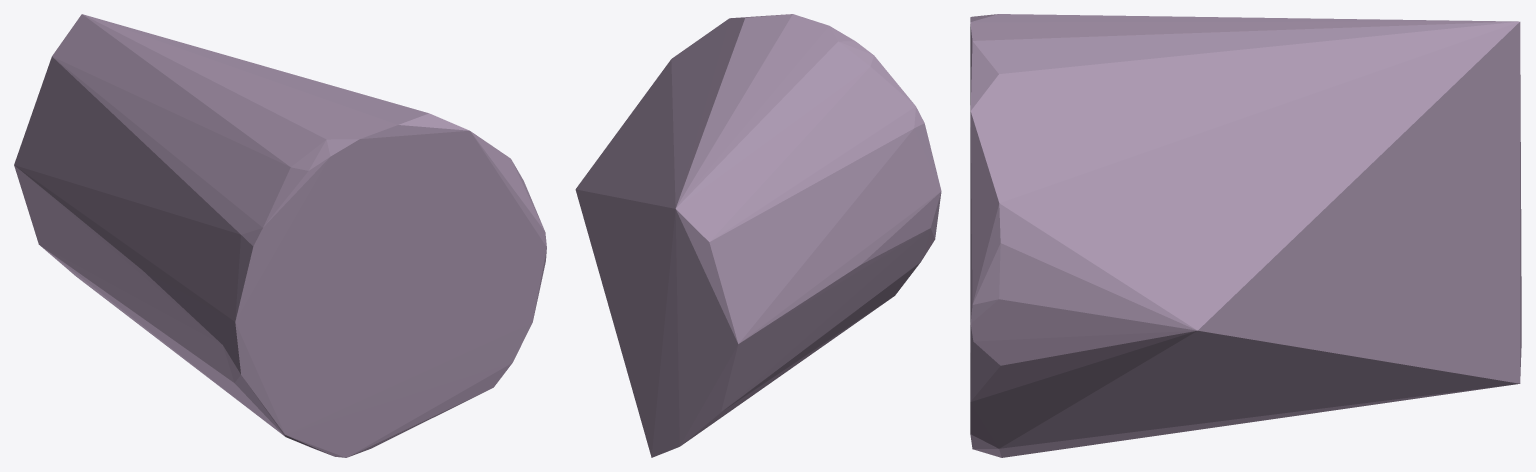
File: consumable_solvent_cleaner_b01.glb
3 views of the same model, side by side, from view 1: azimuth 30°, elevation 25°; view 2: azimuth 150°, elevation 25°; view 3: azimuth 270°, elevation 25° (orthographic). The views are drawn at different scales.
Visible parts, largest first — view 1: geometry_0; view 2: geometry_0; view 3: geometry_0.
Part boxes in pixels (box(x1,y1,x2,y2)): geometry_0: box(14, 14, 546, 457); geometry_0: box(575, 14, 941, 457); geometry_0: box(970, 14, 1521, 457).
Bounding box in the file's own units: 0.3842 × 0.3889 × 0.476.
